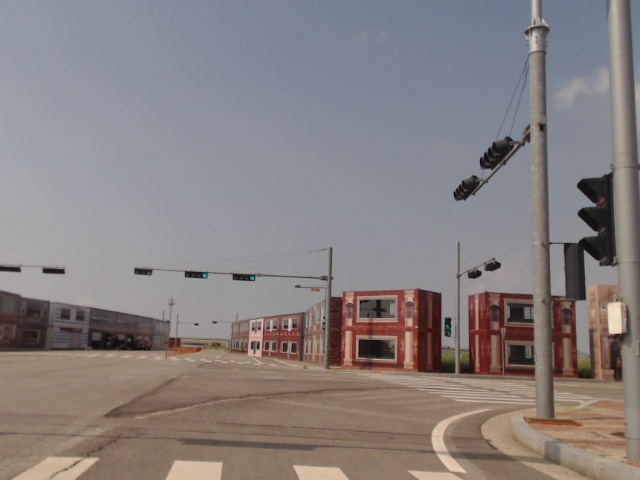straight_green_4: (185, 270, 208, 280), (232, 274, 256, 281)
